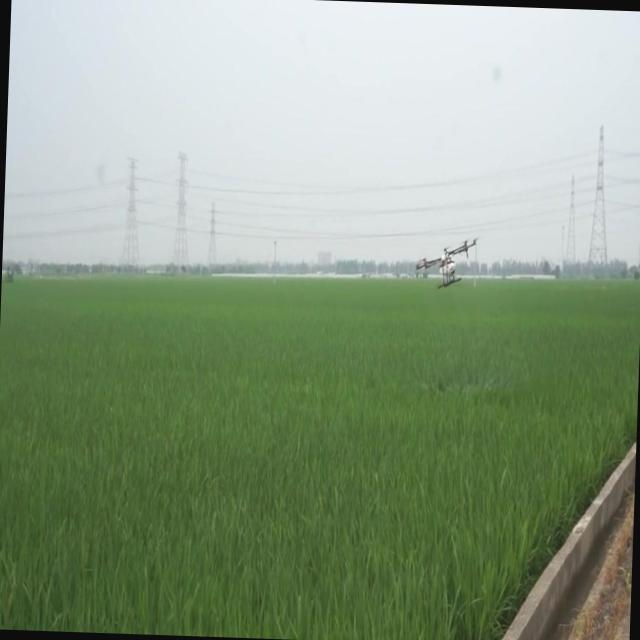drone: (412, 232, 480, 294)
